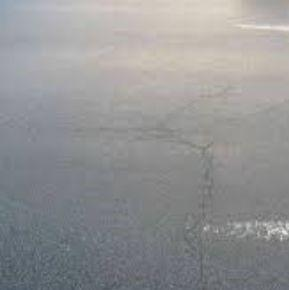alligator-crack: (88, 123, 190, 146)
crack: (186, 146, 217, 290), (158, 79, 250, 123)
